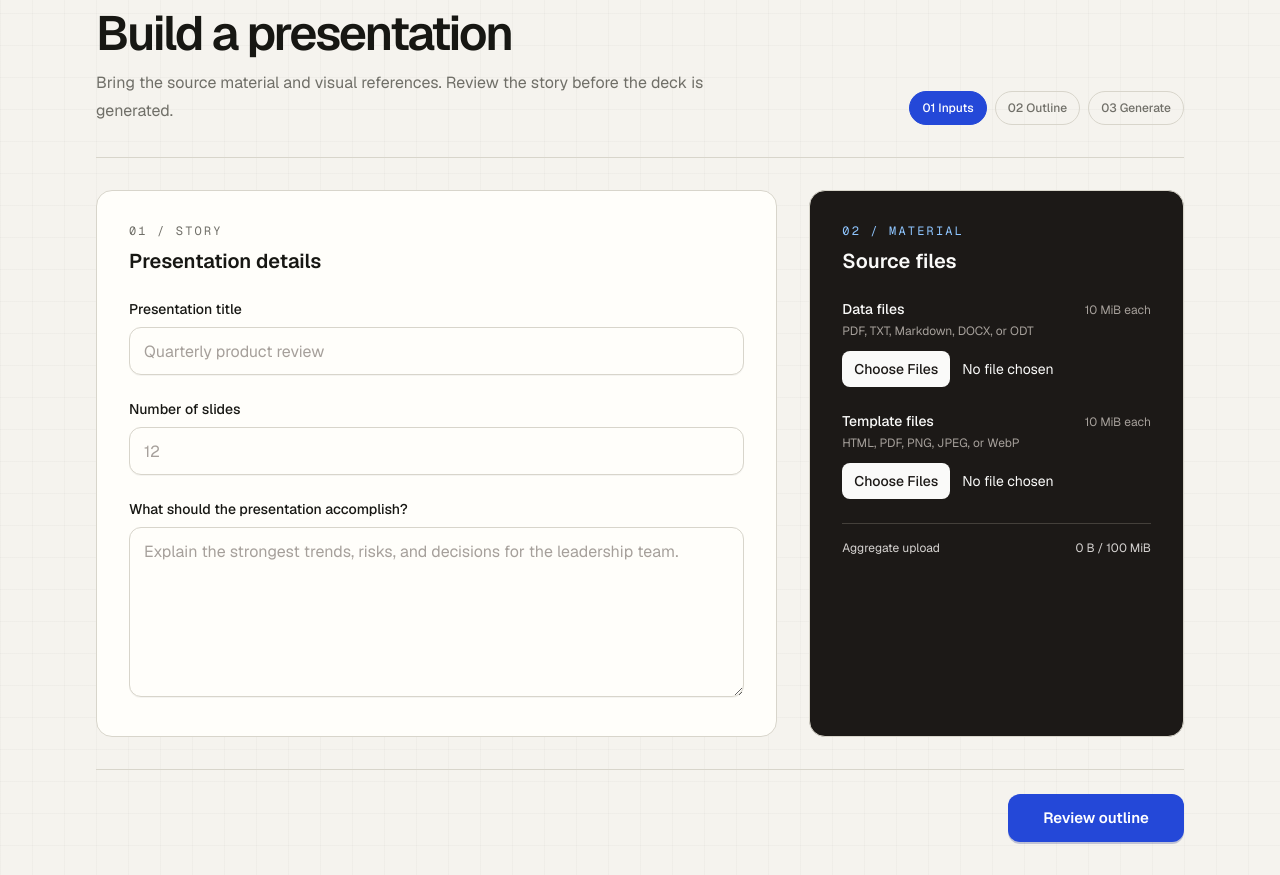
Test: SlideCreationWorkspace › shows field errors and has no arbitrary slide-count maximum
The image size is (1280, 875).
(page scrolled)
What coordinates should you click on to do the following:
click the button "Review outline"
I would click on:
 (1096, 818)
Its box is [1008,794,1184,842].
(page scrolled)
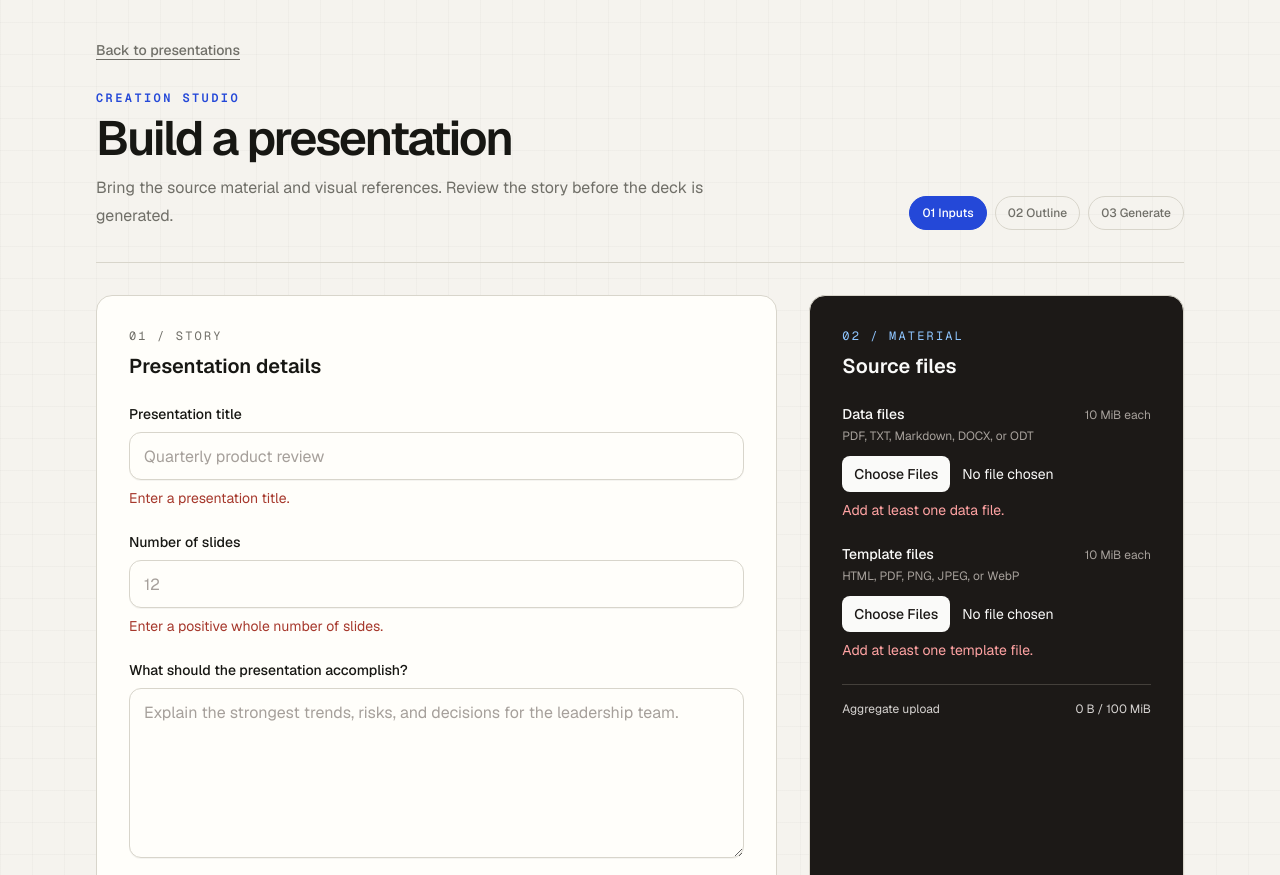
Now the text "Enter a presentation title." is shown, box [129,489,290,507]
Now the text "Enter a positive whole number of slides." is shown, box [129,617,383,635]
Now the text "Add at least one data file." is shown, box [842,501,1004,519]
